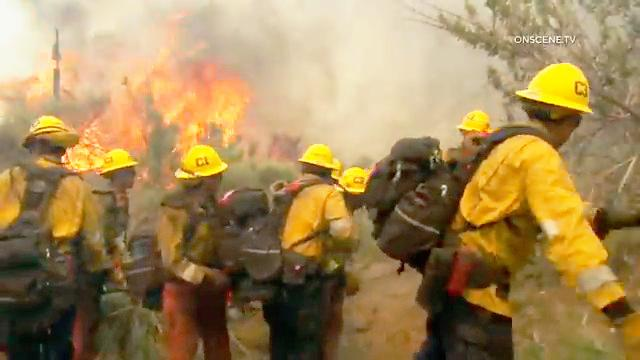fire: (81, 36, 270, 141)
